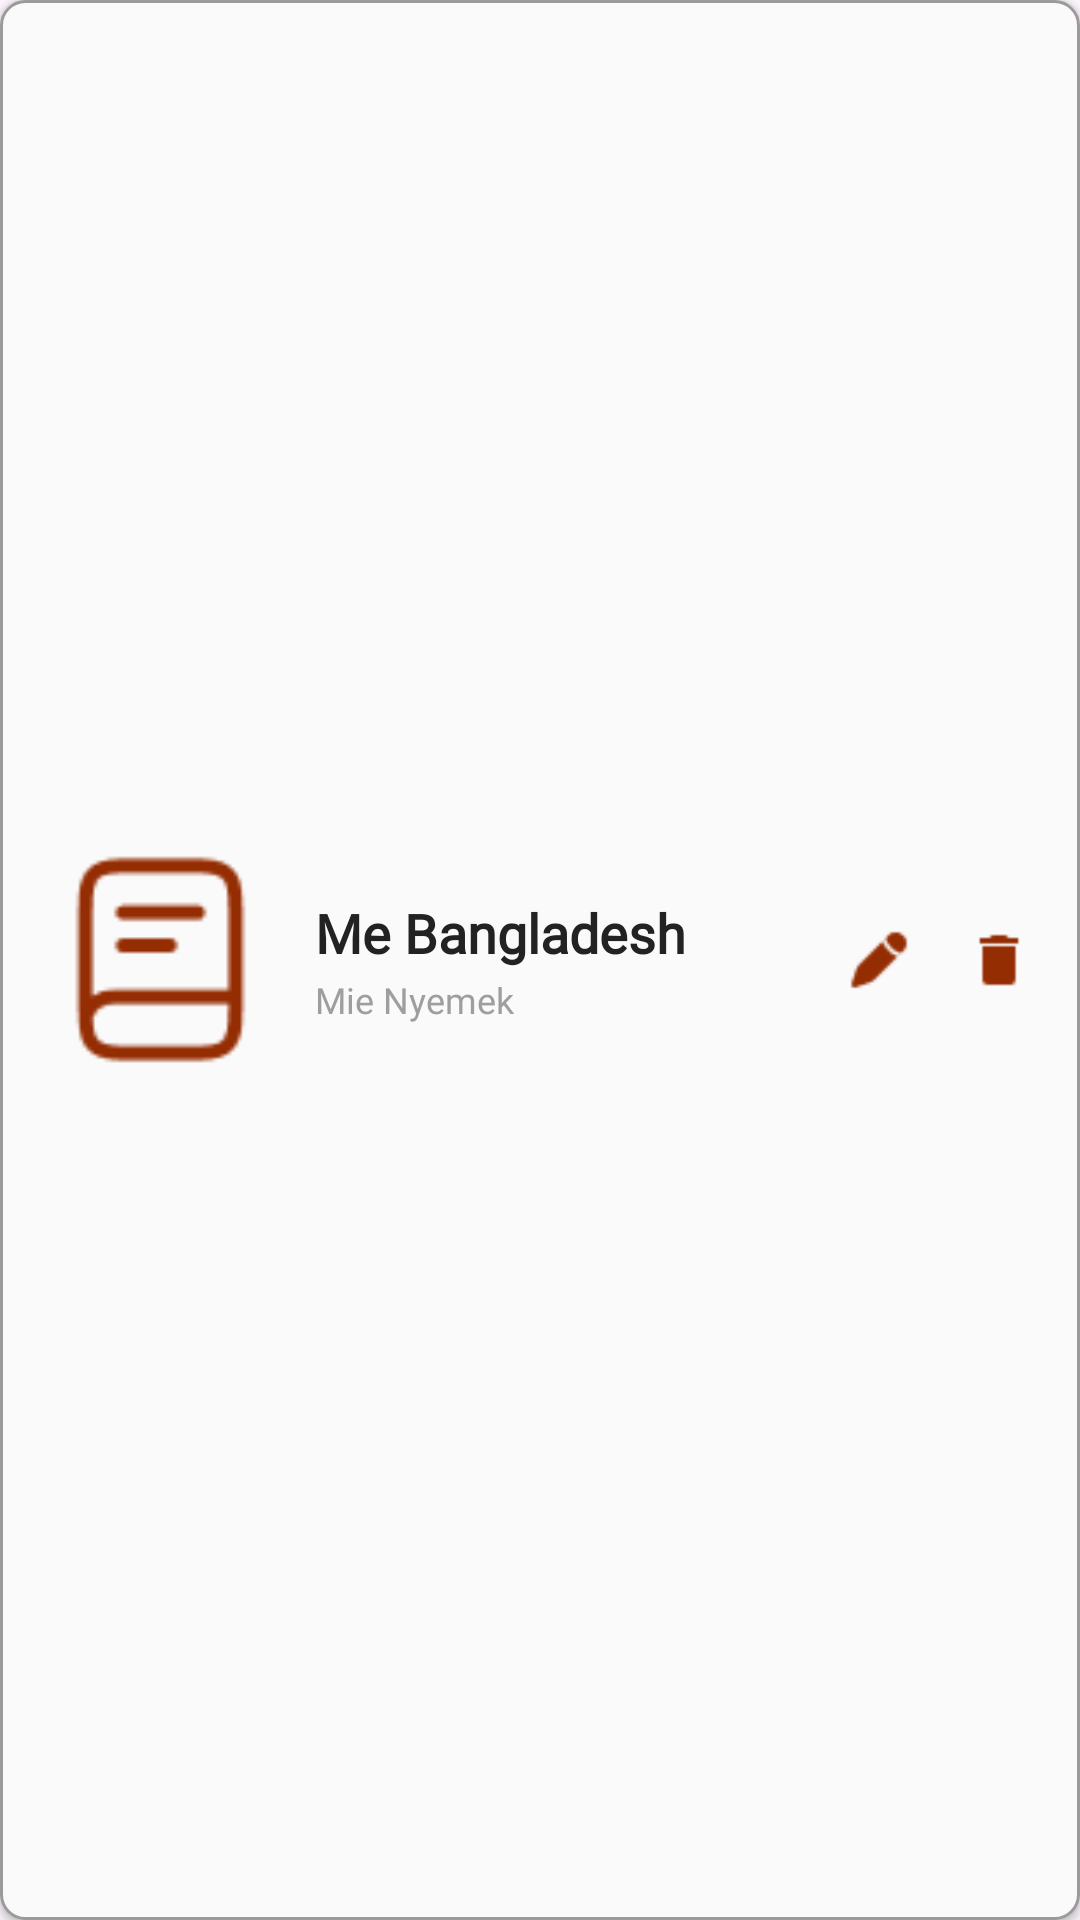

Icon bounding boxes for this 1080px×1920px phone screenshot, format (x1, y1, x2, y2):
pen: (850, 931, 908, 989)
trash: (979, 934, 1019, 986)
